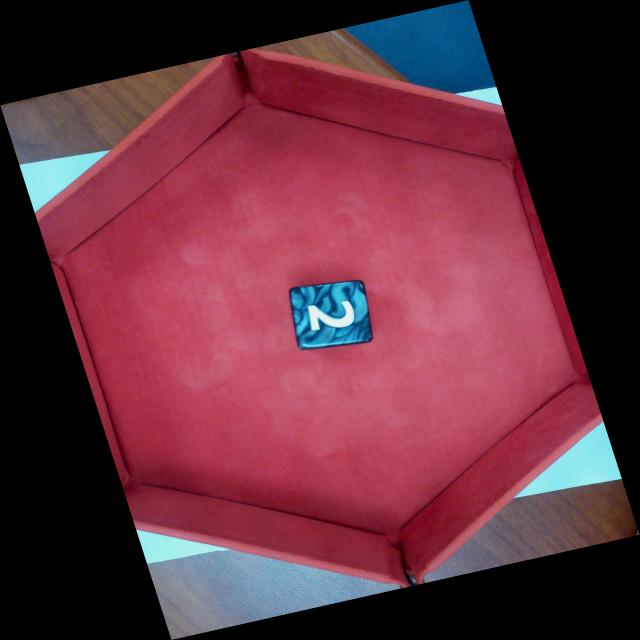dice: (289, 281, 374, 351)
